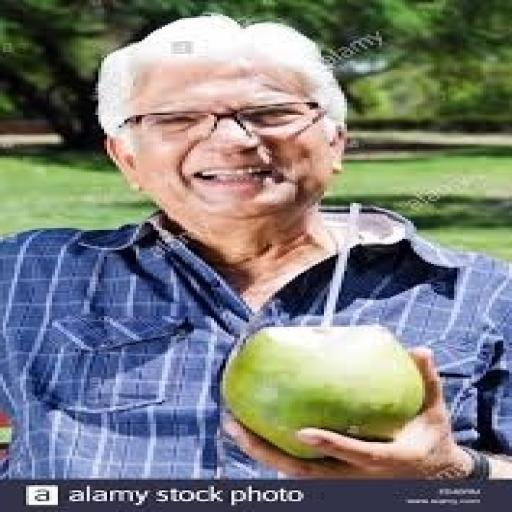drinking: (220, 321, 425, 460)
